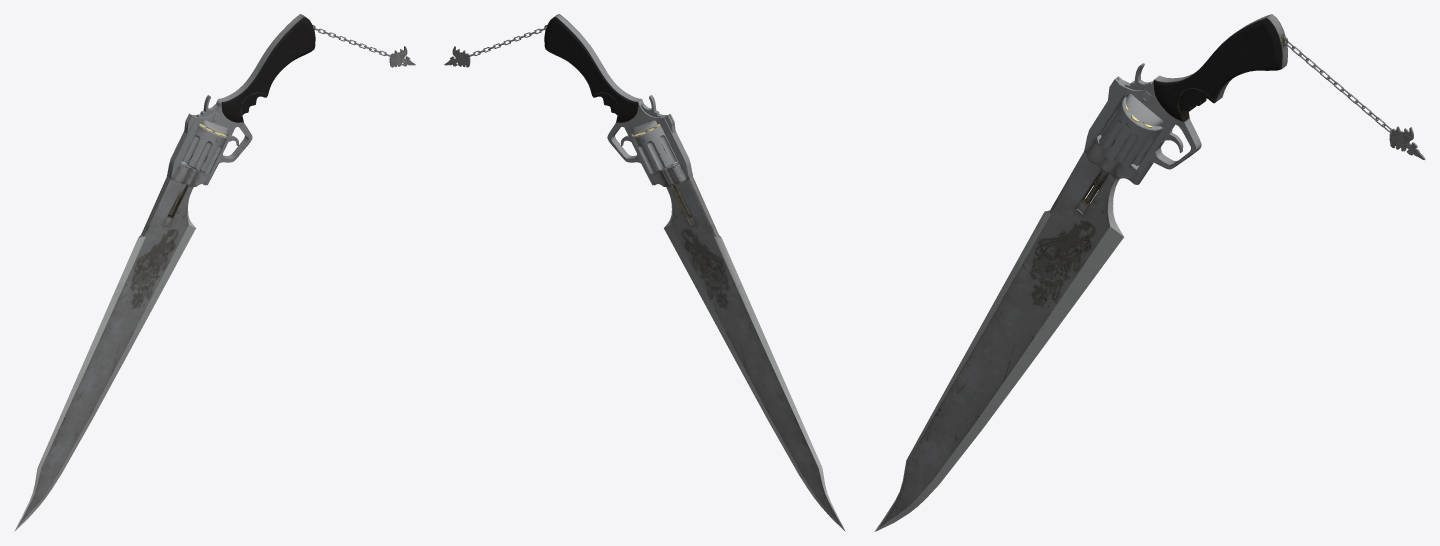
The model's file is Gun_Blade.obj.
3 views of the same model, side by side, from view 1: azimuth 30°, elevation 25°; view 2: azimuth 150°, elevation 25°; view 3: azimuth 330°, elevation 25° (orthographic). The views are drawn at different scales.
Visible parts, largest first — view 1: main_low, barrel_low; view 2: main_low, barrel_low; view 3: main_low, barrel_low.
Boxes of the visible parts, left/top/right/bottom form: main_low: left=14, top=14, right=315, bottom=531; barrel_low: left=182, top=125, right=227, bottom=173; main_low: left=544, top=14, right=845, bottom=531; barrel_low: left=632, top=125, right=677, bottom=173; main_low: left=874, top=14, right=1287, bottom=531; barrel_low: left=1099, top=97, right=1162, bottom=166.
Bounding box in the file's own units: 11.61 × 12.34 × 0.912.
1 material, 1 textured.
